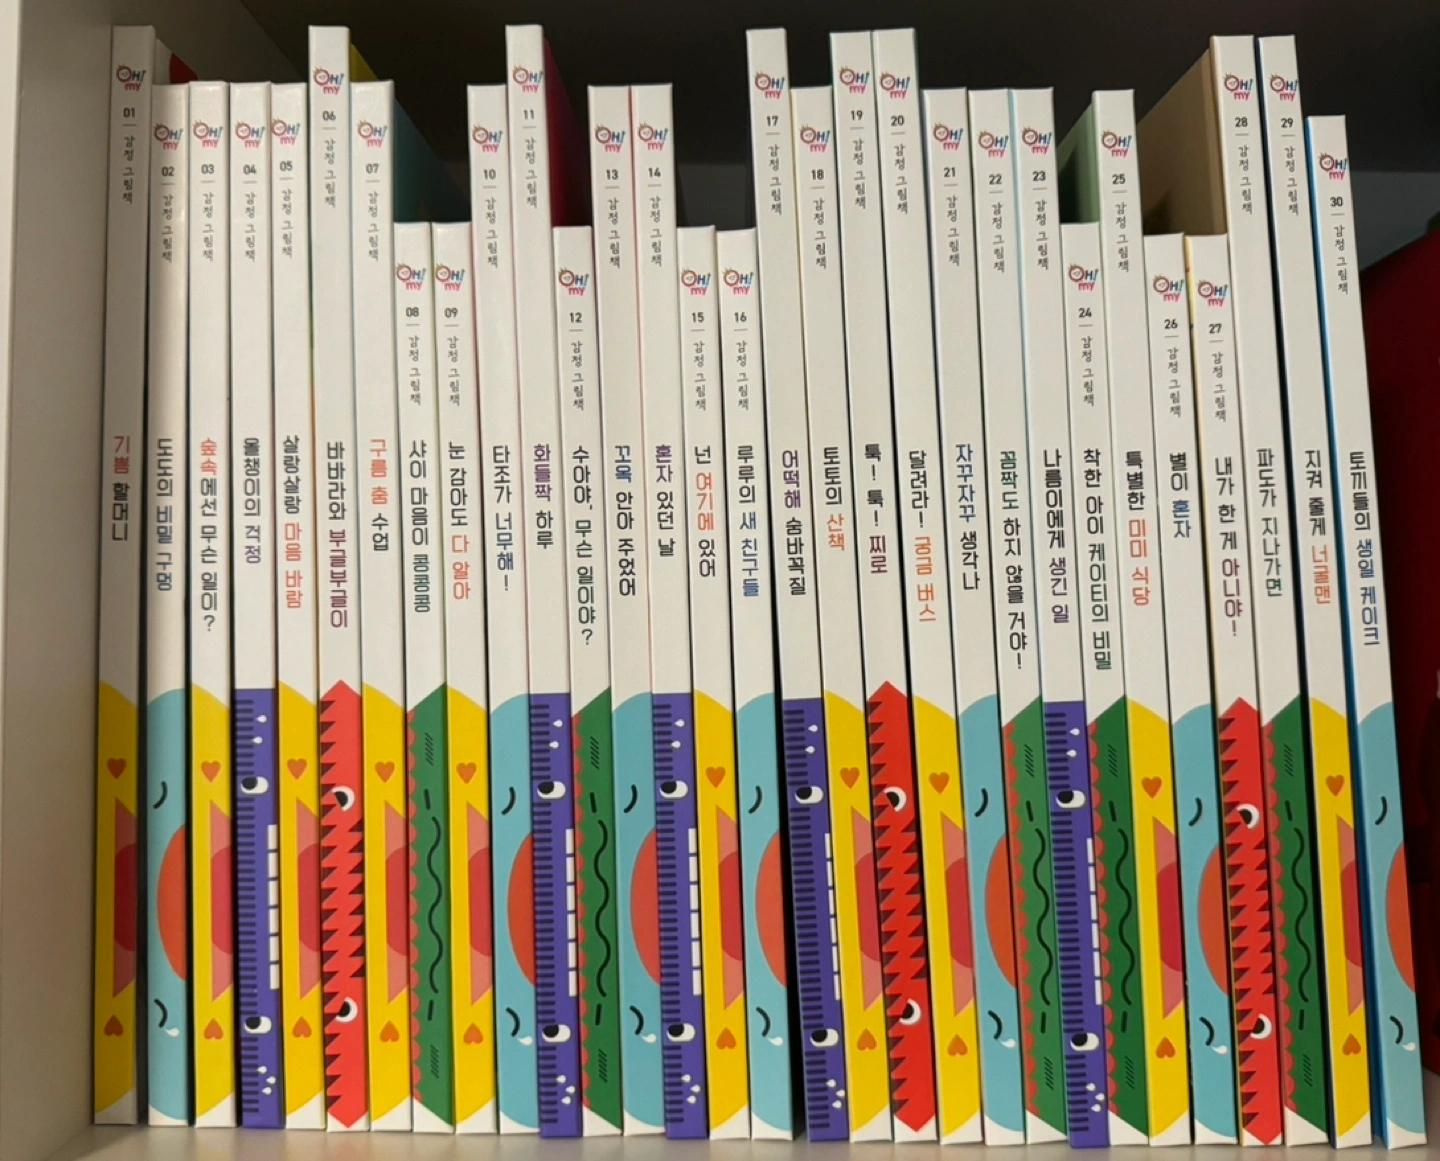book: (97, 26, 1433, 1138)
